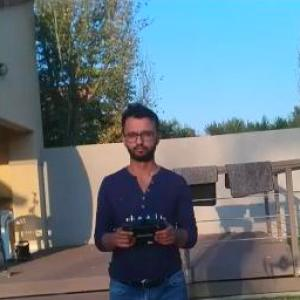follow: (91, 94, 204, 299)
